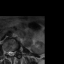CCS_normal: (10, 49, 12, 57)
LFS_normal: (15, 49, 16, 55)
LLS_normal: (12, 49, 14, 56)
RFS_normal: (5, 49, 8, 55)
RLS_normal: (8, 49, 10, 56)
